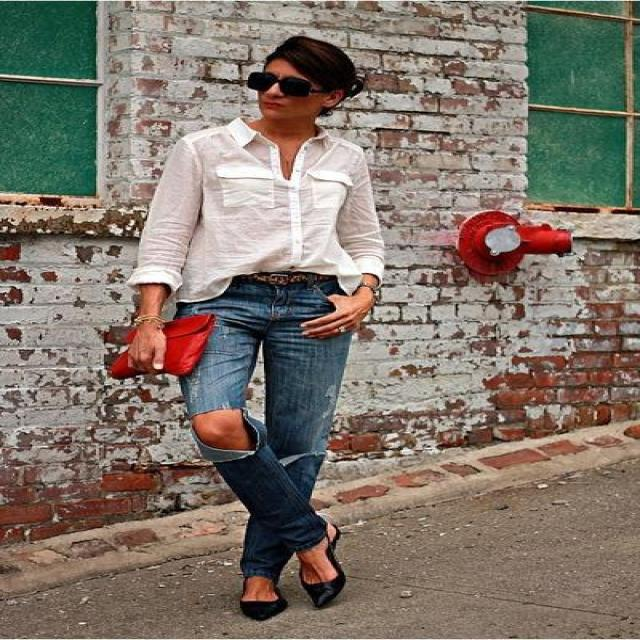bag: (104, 313, 218, 382)
pants: (173, 271, 363, 587)
shirt: (127, 115, 396, 315)
shoe: (240, 519, 349, 620)
sunglass: (250, 73, 308, 96)
